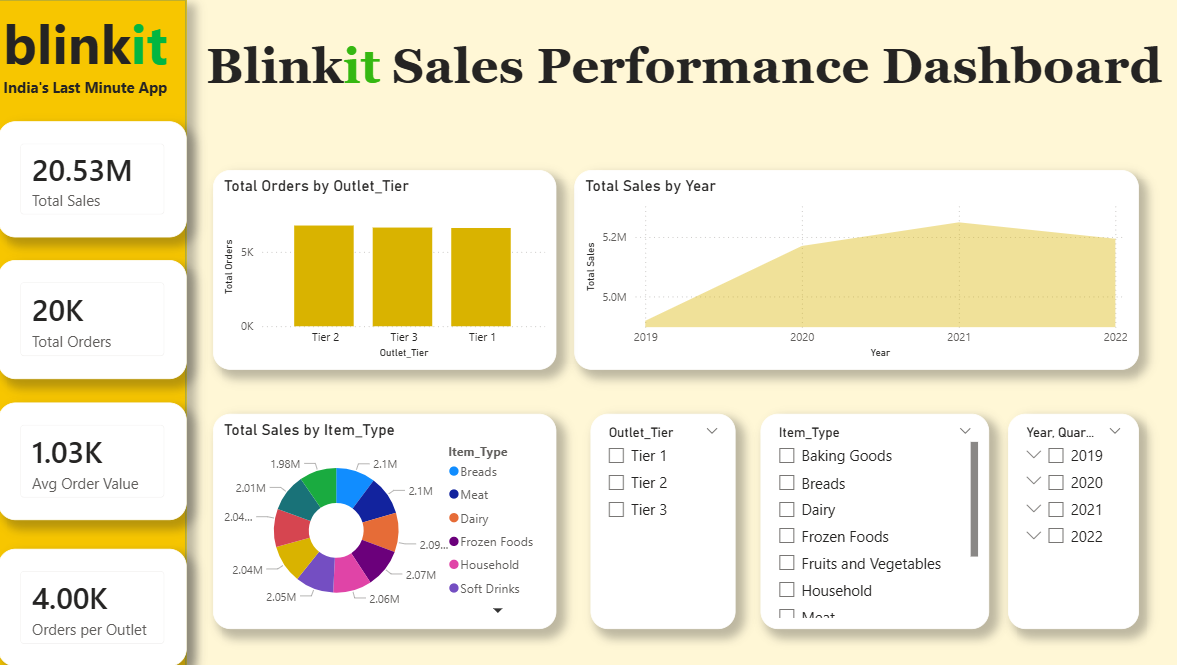

The dashboard page shown, as its layout file describes it:
{"tool":"powerbi","page":{"name":"Page 1","canvas":[1280,720],"ordinal":0},"visuals":[{"type":"shape","box":[0,0,203.9,720.2],"z":0},{"type":"textbox","box":[0,0,203.9,720.2],"z":1000},{"type":"cardVisual","fields":{"Data":["Blinkit_High_Volume_Sales_Data_20K.Total Sales"]},"box":[0,131.4,204.3,125.7],"z":2000},{"type":"cardVisual","fields":{"Data":["Blinkit_High_Volume_Sales_Data_20K.Total Orders"]},"box":[0,281.4,204.3,128.6],"z":3000},{"type":"cardVisual","fields":{"Data":["Blinkit_High_Volume_Sales_Data_20K.Avg Order Value"]},"box":[0,435.7,204.3,127.1],"z":4000},{"type":"textbox","box":[204.3,37.1,1075.7,94.3],"z":5000},{"type":"cardVisual","fields":{"Data":["Blinkit_High_Volume_Sales_Data_20K.Orders per Outlet"]},"box":[0,592.9,204.3,127.1],"z":6000},{"type":"stackedAreaChart","fields":{"Category":["Blinkit_High_Volume_Sales_Data_20K.Order_Date.Variation.Date Hierarchy.Year","Blinkit_High_Volume_Sales_Data_20K.Order_Date.Variation.Date Hierarchy.Quarter","Blinkit_High_Volume_Sales_Data_20K.Order_Date.Variation.Date Hierarchy.Month","Blinkit_High_Volume_Sales_Data_20K.Order_Date.Variation.Date Hierarchy.Day"],"Y":["Blinkit_High_Volume_Sales_Data_20K.Total Sales"]},"box":[622.9,184.3,610,215.7],"z":7000},{"type":"clusteredColumnChart","fields":{"Category":["Blinkit_High_Volume_Sales_Data_20K.Outlet_Tier"],"Y":["Blinkit_High_Volume_Sales_Data_20K.Total Orders"]},"box":[232.9,184.3,371.4,215.7],"z":8000},{"type":"donutChart","fields":{"Category":["Blinkit_High_Volume_Sales_Data_20K.Item_Type"],"Y":["Blinkit_High_Volume_Sales_Data_20K.Total Sales"]},"box":[232.9,447.1,371.4,232.9],"z":9000},{"type":"slicer","fields":{"Values":["Blinkit_High_Volume_Sales_Data_20K.Outlet_Tier"]},"box":[640,447.1,157.1,232.9],"z":10000},{"type":"slicer","fields":{"Values":["Blinkit_High_Volume_Sales_Data_20K.Item_Type"]},"box":[824.3,447.1,247.1,232.9],"z":11000},{"type":"slicer","fields":{"Values":["Blinkit_High_Volume_Sales_Data_20K.Order_Date.Variation.Date Hierarchy.Year","Blinkit_High_Volume_Sales_Data_20K.Order_Date.Variation.Date Hierarchy.Quarter","Blinkit_High_Volume_Sales_Data_20K.Order_Date.Variation.Date Hierarchy.Month","Blinkit_High_Volume_Sales_Data_20K.Order_Date.Variation.Date Hierarchy.Day"]},"box":[1091.4,447.1,141.4,232.9],"z":12000}]}

Visuals, with their boxes in screenshot pixels (x1, y1, x2, y2), scaled from the page's 1280x720 canvas onto the 1177x665 screenshot:
shape: x1=0, y1=0, x2=187, y2=664
textbox: x1=0, y1=0, x2=187, y2=664
cardVisual - Blinkit_High_Volume_Sales_Data_20K.Total Sales: x1=0, y1=121, x2=188, y2=237
cardVisual - Blinkit_High_Volume_Sales_Data_20K.Total Orders: x1=0, y1=260, x2=188, y2=379
cardVisual - Blinkit_High_Volume_Sales_Data_20K.Avg Order Value: x1=0, y1=402, x2=188, y2=520
textbox: x1=188, y1=34, x2=1176, y2=121
cardVisual - Blinkit_High_Volume_Sales_Data_20K.Orders per Outlet: x1=0, y1=548, x2=188, y2=664
stackedAreaChart - Blinkit_High_Volume_Sales_Data_20K.Order_Date.Variation.Date Hierarchy.Year x Blinkit_High_Volume_Sales_Data_20K.Order_Date.Variation.Date Hierarchy.Quarter: x1=573, y1=170, x2=1134, y2=369
clusteredColumnChart - Blinkit_High_Volume_Sales_Data_20K.Outlet_Tier x Blinkit_High_Volume_Sales_Data_20K.Total Orders: x1=214, y1=170, x2=556, y2=369
donutChart - Blinkit_High_Volume_Sales_Data_20K.Item_Type x Blinkit_High_Volume_Sales_Data_20K.Total Sales: x1=214, y1=413, x2=556, y2=628
slicer - Blinkit_High_Volume_Sales_Data_20K.Outlet_Tier: x1=588, y1=413, x2=733, y2=628
slicer - Blinkit_High_Volume_Sales_Data_20K.Item_Type: x1=758, y1=413, x2=985, y2=628
slicer - Blinkit_High_Volume_Sales_Data_20K.Order_Date.Variation.Date Hierarchy.Year x Blinkit_High_Volume_Sales_Data_20K.Order_Date.Variation.Date Hierarchy.Quarter: x1=1004, y1=413, x2=1134, y2=628
